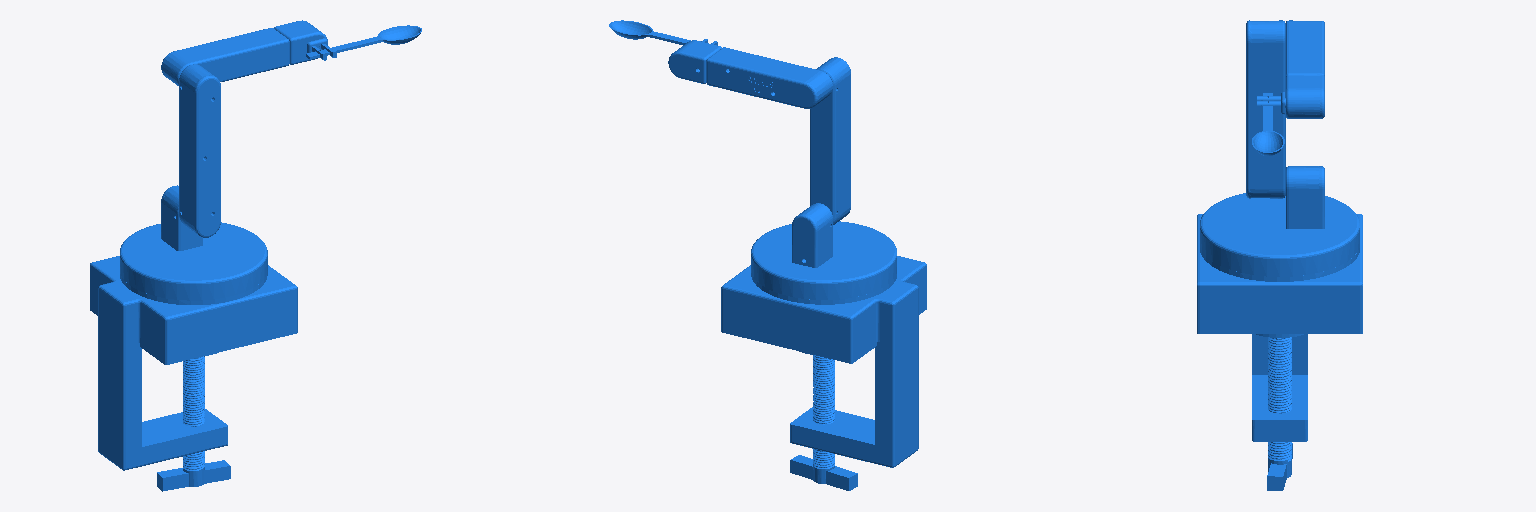
URDF robot description (mark_one_arm):
<?xml version="1.0" encoding="utf-8"?>
<!-- This URDF was automatically created by SolidWorks to URDF Exporter! Originally created by [author] ([email redacted]) 
     Commit Version: 1.6.0-4-g7f85cfe  Build Version: 1.6.7995.38578
     For more information, please see http://wiki.ros.org/sw_urdf_exporter -->
<robot name="mark_one_arm">
  <!-- create link fixed to the "world" -->
  <link name="world" />
  <link name="base_link">
    <inertial>
      <origin xyz="-0.038112 1.1649E-05 -0.051288" rpy="0 0 0" />
      <mass value="1.7609" />
      <inertia
        ixx="0.013987"
        ixy="4.568E-06"
        ixz="-0.0017308"
        iyy="0.017262"
        iyz="-1.5817E-06"
        izz="0.0096448" />
    </inertial>
    <visual>
      <origin xyz="0 0 0" rpy="0 0 0" />
      <geometry>
        <mesh filename="package://mark_one_arm_description/meshes/base_link.STL" />
          <!-- filename="package://AMH19_Mark1_Complete_URDF/meshes/base_link.STL" />  -->
      </geometry>
      <material name="">
        <color rgba="0.19608 0.58824 1 1" />
      </material>
    </visual>
    <collision>
      <origin xyz="0 0 0" rpy="0 0 0" />
      <geometry>
        <mesh filename="package://mark_one_arm_description/meshes/base_link.STL" />
      </geometry>
    </collision>
  </link>
  <joint name="base_joint" type="fixed">
    <parent link="world"/>
    <child link="base_link"/>
    <origin rpy="0.0 0.0 0.0" xyz="0.0 0.0 0.0"/>
  </joint>
  <link name="Link_1">
    <inertial>
      <origin xyz="0.00065581 -0.0064466 0.026051" rpy="0 0 0" />
      <mass value="0.42083" />
      <inertia
        ixx="0.0010943"
        ixy="-3.8989E-08"
        ixz="6.9374E-08"
        iyy="0.00108"
        iyz="3.3023E-05"
        izz="0.0019753" />
    </inertial>
    <visual>
      <origin xyz="0 0 0" rpy="0 0 0" />
      <geometry>
        <mesh filename="package://mark_one_arm_description/meshes/Link_1.STL" />
      </geometry>
      <material name="">
        <color rgba="0.19608 0.58824 1 1" />
      </material>
    </visual>
    <collision>
      <origin xyz="0 0 0" rpy="0 0 0" />
      <geometry>
        <mesh filename="package://mark_one_arm_description/meshes/Link_1.STL" />
      </geometry>
    </collision>
  </link>
  <joint name="Joint_1" type="revolute">
    <origin xyz="0.0005 0 0.0675" rpy="0 0 3.1416" />
    <parent link="base_link" />
    <child link="Link_1" />
    <axis xyz="0 0 -1" />
    <limit lower="0" upper="4.18" effort="1" velocity="3" />
  </joint>
  <link name="Link_2">
    <inertial>
      <origin xyz="-9.8731E-05 0.024339 0.10001" rpy="0 0 0" />
      <mass value="0.16055" />
      <inertia
        ixx="0.00081029"
        ixy="-5.0894E-08"
        ixz="2.4508E-08"
        iyy="0.00082113"
        iyz="-1.246E-08"
        izz="5.324E-05" />
    </inertial>
    <visual>
      <origin xyz="0 0 0" rpy="0 0 0" />
      <geometry>
        <mesh filename="package://mark_one_arm_description/meshes/Link_2.STL" />
      </geometry>
      <material name="">
        <color rgba="0.19608 0.58824 1 1" />
      </material>
    </visual>
    <collision>
      <origin xyz="0 0 0" rpy="0 0 0" />
      <geometry>
        <mesh filename="package://mark_one_arm_description/meshes/Link_2.STL" />
      </geometry>
    </collision>
  </link>
  <joint name="Joint_2" type="revolute">
    <origin xyz="0.0005 -0.00615 0.0875" rpy="0 0 0" />
    <parent link="Link_1" />
    <child link="Link_2" />
    <axis xyz="0 1 0" />
    <limit lower="0" upper="4.18" effort="1" velocity="3" />
  </joint>
  <link name="Link_3">
    <inertial>
      <origin xyz="-0.077349 -0.024767 4.4737E-05" rpy="0 0 0" />
      <mass value="0.22178" />
      <inertia
        ixx="4.9456E-05"
        ixy="3.1264E-06"
        ixz="1.5521E-06"
        iyy="0.00038278"
        iyz="-3.4186E-08"
        izz="0.00037292" />
    </inertial>
    <visual>
      <origin xyz="0 0 0" rpy="0 0 0" />
      <geometry>
        <mesh filename="package://mark_one_arm_description/meshes/Link_3.STL" />
      </geometry>
      <material name="">
        <color rgba="0.19608 0.58824 1 1" />
      </material>
    </visual>
    <collision>
      <origin xyz="0 0 0" rpy="0 0 0" />
      <geometry>
        <mesh filename="package://mark_one_arm_description/meshes/Link_3.STL" />
      </geometry>
    </collision>
  </link>
  <joint name="Joint_3" type="revolute">
    <origin xyz="0 0 0.20005" rpy="0 0 0" />
    <parent link="Link_2" />
    <child link="Link_3" />
    <axis xyz="0 1 0" />
    <limit lower="0" upper="4.18" effort="1" velocity="3" />
  </joint>
  <link name="Link_4">
    <inertial>
      <origin xyz="-0.030101 0.0058914 -0.0054388" rpy="0 0 0" />
      <mass value="0.10316" />
      <inertia
        ixx="1.8487E-05"
        ixy="2.0257E-07"
        ixz="-1.3162E-08"
        iyy="2.6443E-05"
        iyz="2.9228E-08"
        izz="2.8243E-05" />
    </inertial>
    <visual>
      <origin xyz="0 0 0" rpy="0 0 0" />
      <geometry>
        <mesh filename="package://mark_one_arm_description/meshes/Link_4.STL" />
      </geometry>
      <material name="">
        <color rgba="0.19608 0.58824 1 1" />
      </material>
    </visual>
    <collision>
      <origin xyz="0 0 0" rpy="0 0 0" />
      <geometry>
        <mesh filename="package://mark_one_arm_description/meshes/Link_4.STL" />
      </geometry>
    </collision>
  </link>
  <joint name="Joint_4" type="revolute">
    <origin xyz="-0.15685 -0.0252 0.0054" rpy="0 0 0" />
    <parent link="Link_3" />
    <child link="Link_4" />
    <axis xyz="1 0 0" />
    <limit lower="-0.52" upper="2.62" effort="0.118" velocity="4.2" />
  </joint>
  <link name="Link_5">
    <inertial>
      <origin xyz="-0.04751 0.01529 -0.0019025" rpy="0 0 0" />
      <mass value="0.016216" />
      <inertia
        ixx="1.635E-06"
        ixy="2.3499E-10"
        ixz="-1.1461E-06"
        iyy="2.7644E-05"
        iyz="-2.9451E-09"
        izz="2.8764E-05" />
    </inertial>
    <visual>
      <origin xyz="0 0 0" rpy="0 0 0" />
      <geometry>
        <mesh filename="package://mark_one_arm_description/meshes/Link_5.STL" />
      </geometry>
      <material name="">
        <color rgba="0.19608 0.58824 1 1" />
      </material>
    </visual>
    <collision>
      <origin xyz="0 0 0" rpy="0 0 0" />
      <geometry>
        <mesh filename="package://mark_one_arm_description/meshes/Link_5.STL" />
      </geometry>
    </collision>
  </link>
  <joint name="Joint_5" type="revolute">
    <origin xyz="-0.03875 0.02745 -0.00545" rpy="0 0 0" />
    <parent link="Link_4" />
    <child link="Link_5" />
    <axis xyz="0 -1 0" />
    <limit lower="-0.52" upper="2.62" effort="0.118" velocity="4.2" />
  </joint>
</robot>

--- Facts derived from the render (not from the file) ---
3 views of the same robot in one strip: view 1: azimuth 30°, elevation 25°; view 2: azimuth 150°, elevation 25°; view 3: azimuth 270°, elevation 25° (orthographic).
Robot: mark_one_arm — 7 links, 6 joints (5 revolute, 1 fixed); root link world; default pose: every joint at zero.
Links seen in each view (by area): view 1: base_link, Link_1, Link_2, Link_3, Link_5, Link_4; view 2: base_link, Link_1, Link_2, Link_3, Link_4, Link_5; view 3: base_link, Link_1, Link_2, Link_3, Link_4, Link_5.
Link boxes in pixels (x1=…): base_link: x1=90, y1=256, x2=297, y2=491; Link_1: x1=120, y1=185, x2=267, y2=304; Link_2: x1=179, y1=64, x2=220, y2=237; Link_3: x1=161, y1=28, x2=289, y2=85; Link_5: x1=306, y1=25, x2=421, y2=60; Link_4: x1=274, y1=20, x2=327, y2=64; base_link: x1=721, y1=256, x2=926, y2=490; Link_1: x1=751, y1=203, x2=896, y2=304; Link_2: x1=810, y1=57, x2=850, y2=224; Link_3: x1=706, y1=47, x2=832, y2=108; Link_4: x1=668, y1=40, x2=721, y2=83; Link_5: x1=609, y1=20, x2=717, y2=45; base_link: x1=1197, y1=214, x2=1362, y2=490; Link_1: x1=1200, y1=166, x2=1359, y2=281; Link_2: x1=1246, y1=20, x2=1285, y2=198; Link_3: x1=1286, y1=20, x2=1324, y2=76; Link_4: x1=1285, y1=76, x2=1324, y2=118; Link_5: x1=1252, y1=92, x2=1284, y2=155.
Bounding box of the posed robot: 0.4755 × 0.2074 × 0.62 m (x, y, z).
6 mesh visuals loaded from 6 distinct referenced files (6 binary STL).
